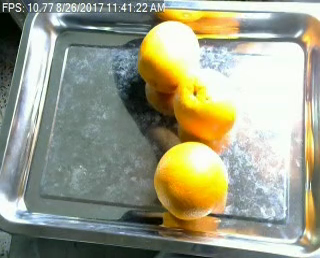Orange: (153, 141, 228, 220), (137, 19, 199, 92), (174, 69, 238, 139)
